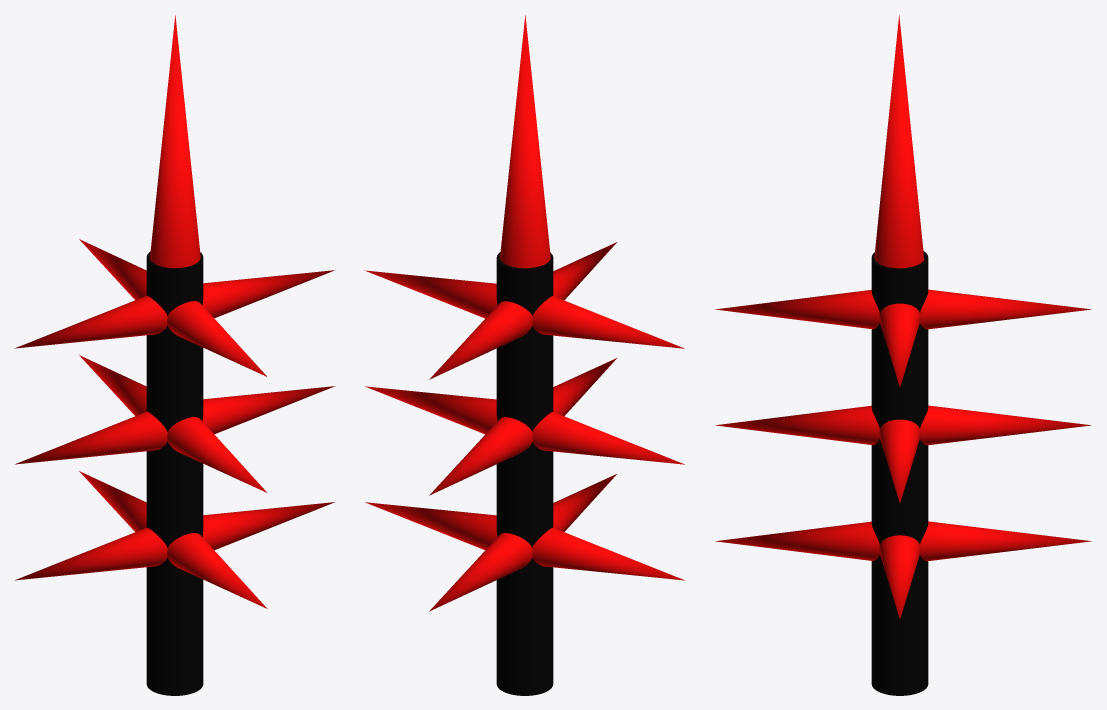
File: Spike_Pole_001.fbx
The picture shows the model from 3 angles, left to right: view 1: azimuth 30°, elevation 25°; view 2: azimuth 150°, elevation 25°; view 3: azimuth 270°, elevation 25°; orthographic projection.
Parts seen in each view (by area): view 1: Spike_Pole, Spike_E, Spike_W, Spike_N, Spike_S; view 2: Spike_Pole, Spike_E, Spike_S, Spike_W, Spike_N; view 3: Spike_Pole, Spike_S, Spike_N, Spike_W.
Part boxes in pixels (bbox=[...]): Spike_Pole: bbox=[146, 15, 203, 695]; Spike_E: bbox=[14, 295, 167, 580]; Spike_W: bbox=[202, 270, 335, 550]; Spike_N: bbox=[167, 301, 267, 608]; Spike_S: bbox=[79, 239, 146, 531]; Spike_Pole: bbox=[496, 15, 553, 695]; Spike_E: bbox=[532, 296, 685, 580]; Spike_S: bbox=[429, 301, 532, 611]; Spike_W: bbox=[364, 270, 497, 550]; Spike_N: bbox=[553, 242, 616, 531]; Spike_Pole: bbox=[871, 15, 928, 695]; Spike_S: bbox=[920, 289, 1091, 561]; Spike_N: bbox=[715, 290, 879, 560]; Spike_W: bbox=[879, 303, 920, 618].
Bounding box in the file's own units: 118 × 235 × 120.
